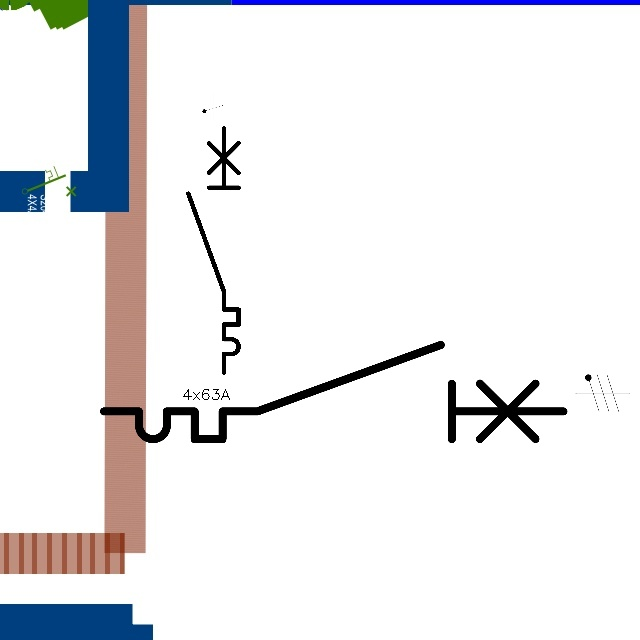interruptor_termomagnetico: (92, 333, 576, 451), (182, 122, 245, 379)
